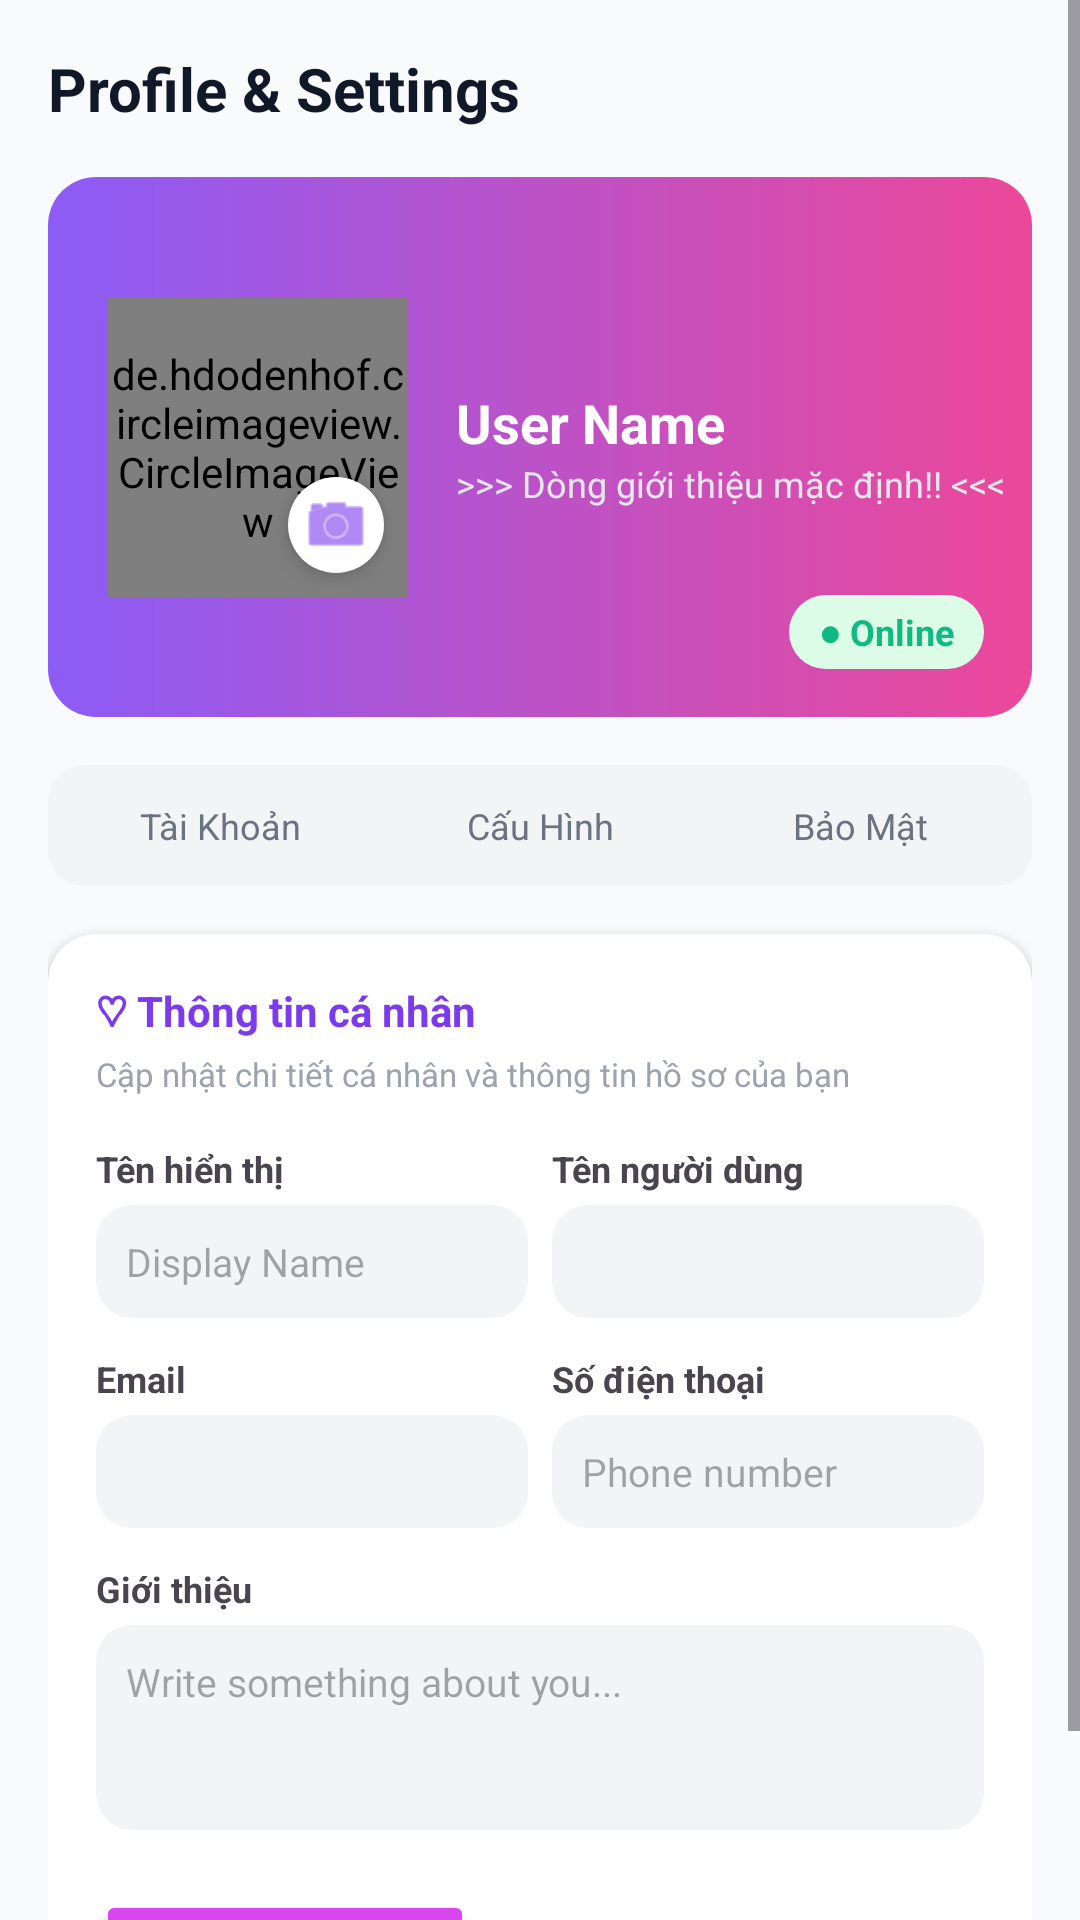

Named icons in this screenshot (1080px x 1920px) and their bounding boxes, (x1, y1, x2, y2):
Change Avatar: (273, 458, 398, 573)
